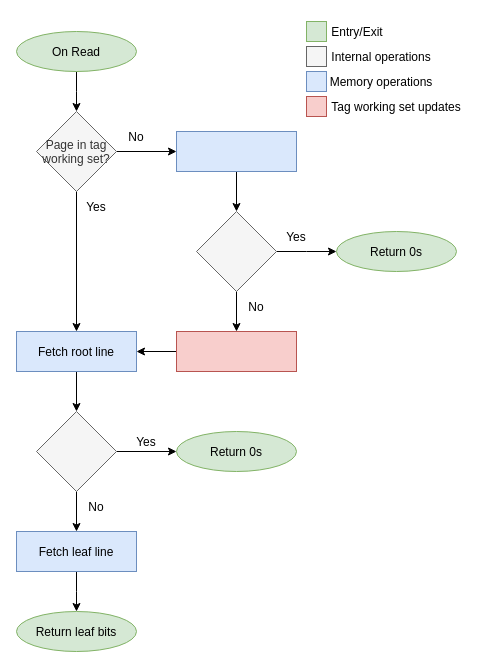
The diagram is 488 pixels wide and 668 high, and some of its shapes have lost their labels. The box of each missing label's shape, as (x1, y1, x2, y2) in pixels:
Add page to tag working set: (176, 330, 296, 372)
Fetch superroot line: (176, 130, 296, 172)
Root bit 0?: (36, 410, 116, 492)
Superroot bit 0?: (196, 210, 276, 292)
